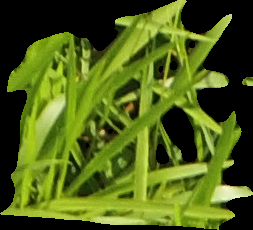grass: (1, 1, 251, 229)
